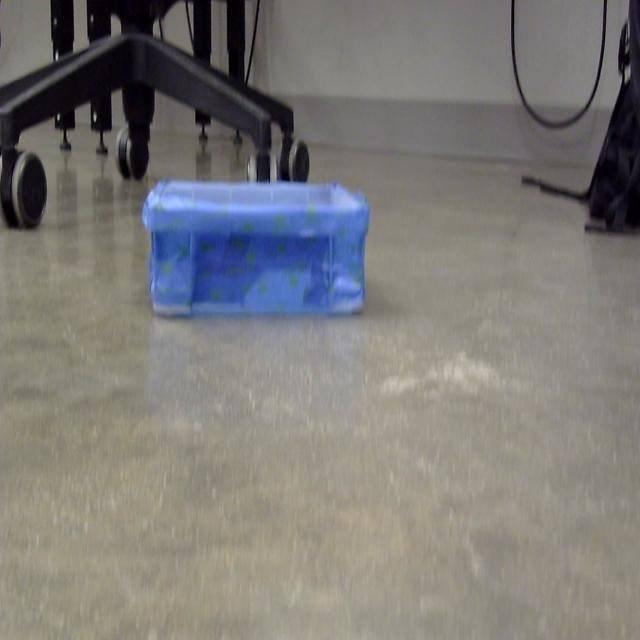bucket: (141, 180, 371, 321)
